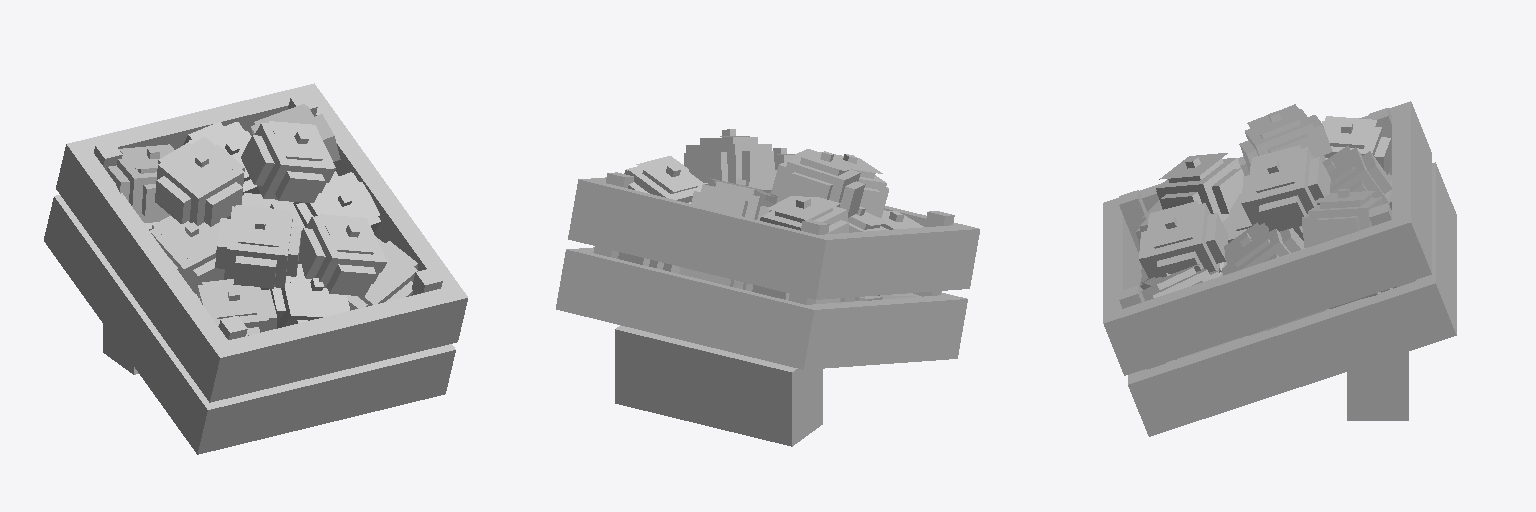
The model's file is 1765_onion_crate.obj.
3 renders of one model, left to right at view 1: azimuth 30°, elevation 25°; view 2: azimuth 150°, elevation 25°; view 3: azimuth 270°, elevation 25°, orthographic.
Visible parts, largest first — view 1: tomatoleaves, Plank8, Plank2, Tomato1, Plank9, Plank3, tomato6, Plank5, tomato4, Plank11, tomato5, Stem1 (+3 smaller); view 2: Block, Plank12, Plank11, Plank8, Plank9, Tomato1, tomato3, tomatoleaves, tomato4, tomato2, Plank5, Plank6 (+1 smaller); view 3: Plank5, Plank6, Tomato1, tomatoleaves, tomato3, Plank11, tomato5, Block, Plank2, Plank12, tomato2, tomato6 (+3 smaller).
Part boxes in pixels (left/top/right/bottom): tomatoleaves: left=119, top=104, right=411, bottom=317; Plank8: left=56, top=140, right=237, bottom=402; Plank2: left=227, top=289, right=450, bottom=398; Tomato1: left=116, top=106, right=417, bottom=332; Plank9: left=44, top=195, right=225, bottom=454; Plank3: left=215, top=348, right=437, bottom=450; tomato6: left=142, top=171, right=412, bottom=335; Plank5: left=297, top=83, right=467, bottom=346; tomato4: left=107, top=135, right=367, bottom=321; Plank11: left=85, top=88, right=301, bottom=153; tomato5: left=216, top=114, right=417, bottom=329; Stem1: left=147, top=117, right=359, bottom=300; Block: left=615, top=325, right=822, bottom=446; Plank12: left=573, top=253, right=803, bottom=365; Plank11: left=586, top=183, right=815, bottom=294; Plank8: left=798, top=225, right=979, bottom=299; Plank9: left=786, top=295, right=967, bottom=369; Tomato1: left=627, top=144, right=921, bottom=301; tomato3: left=618, top=152, right=844, bottom=302; tomatoleaves: left=636, top=136, right=923, bottom=228; tomato4: left=663, top=151, right=882, bottom=303; tomato2: left=642, top=137, right=909, bottom=293; Plank5: left=568, top=177, right=606, bottom=243; Plank6: left=556, top=247, right=593, bottom=313; Plank5: left=1103, top=214, right=1431, bottom=375; Plank6: left=1128, top=275, right=1456, bottom=436; Tomato1: left=1139, top=109, right=1392, bottom=359; tomatoleaves: left=1141, top=104, right=1376, bottom=286; tomato3: left=1205, top=115, right=1396, bottom=340; Plank11: left=1392, top=110, right=1431, bottom=263; tomato5: left=1157, top=134, right=1380, bottom=330; Block: left=1347, top=352, right=1408, bottom=420; Plank2: left=1103, top=206, right=1143, bottom=314; Plank12: left=1416, top=171, right=1456, bottom=325; tomato2: left=1152, top=120, right=1369, bottom=290; tomato6: left=1136, top=140, right=1334, bottom=361.
Size of the model in its own units: 0.875 by 0.8218 by 1.08.